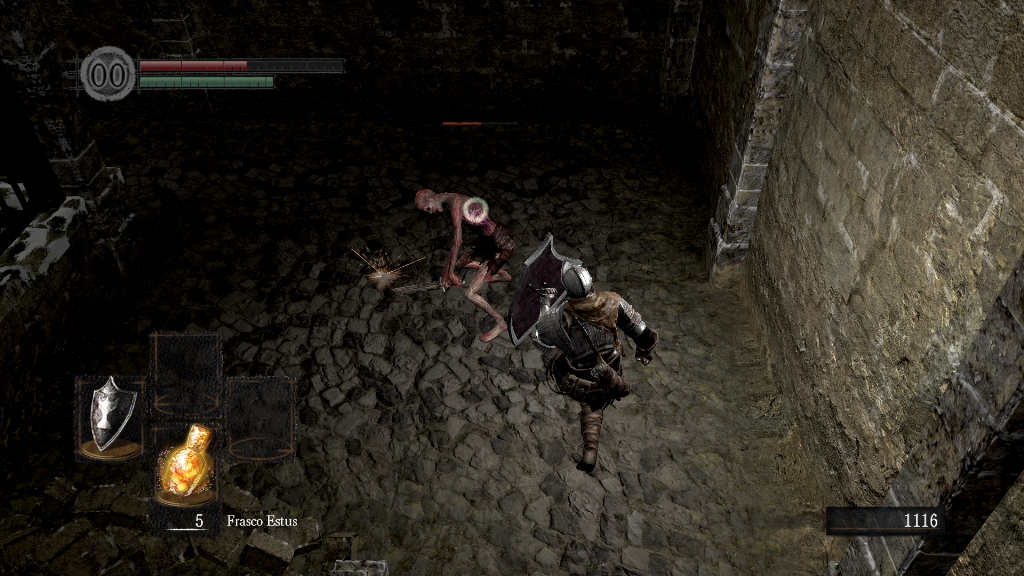health: (138, 58, 343, 71)
hollow: (410, 187, 515, 343)
humanity: (80, 45, 136, 102)
player: (508, 233, 660, 471)
souls: (825, 506, 945, 536)
stamina: (138, 74, 274, 88)
